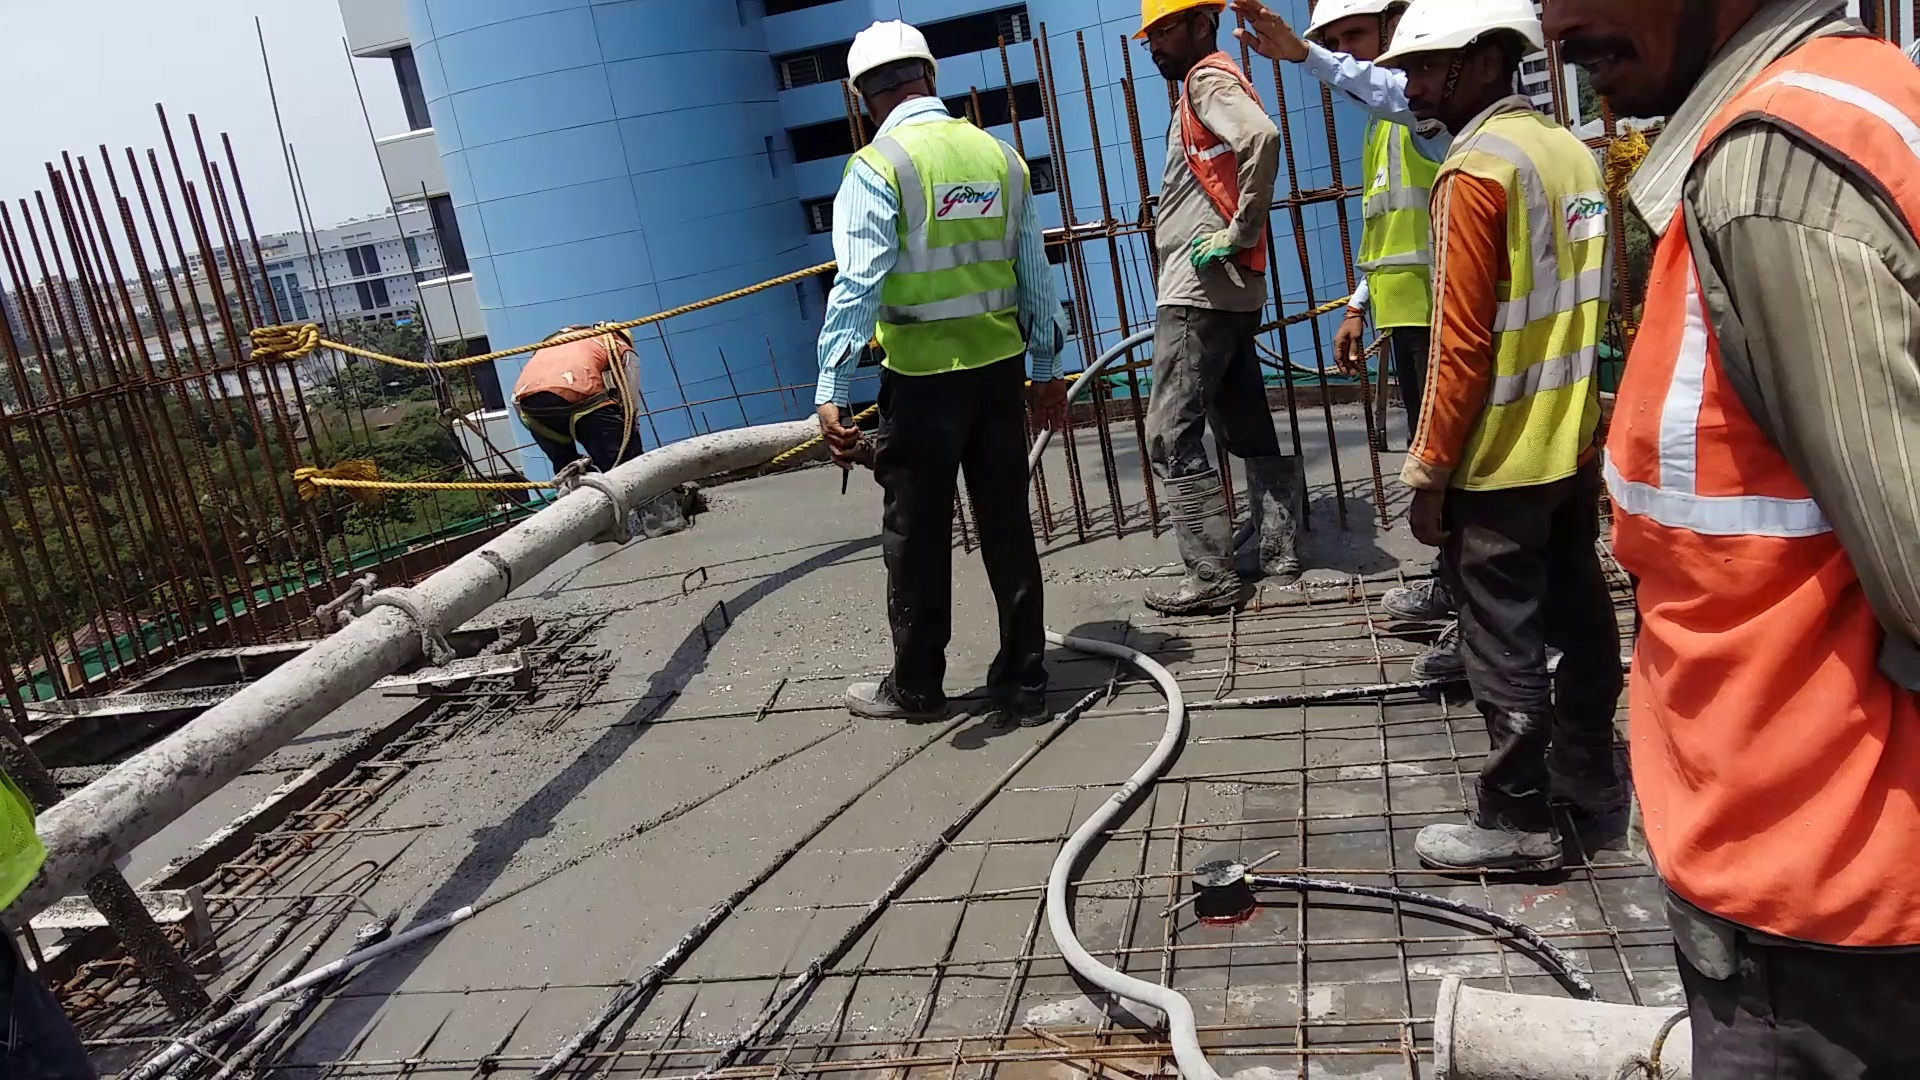SAFE: (1386, 3, 1596, 497), (839, 18, 1036, 375), (1307, 4, 1432, 344), (1142, 1, 1274, 314)
